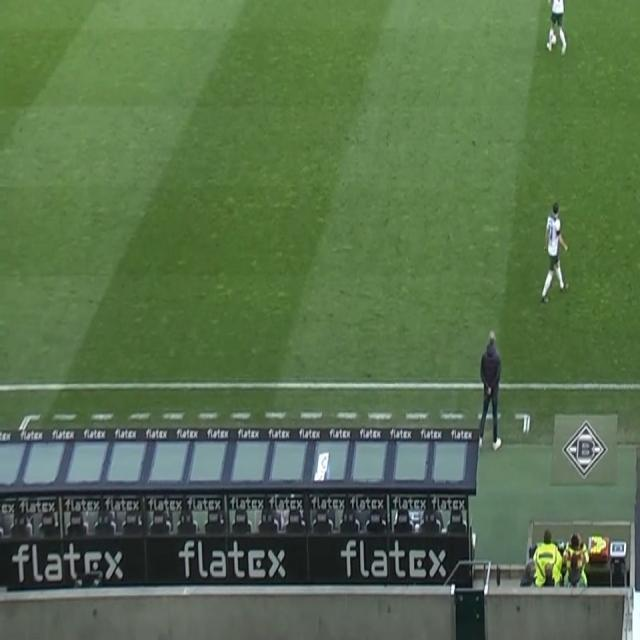ball: (550, 31, 557, 46)
